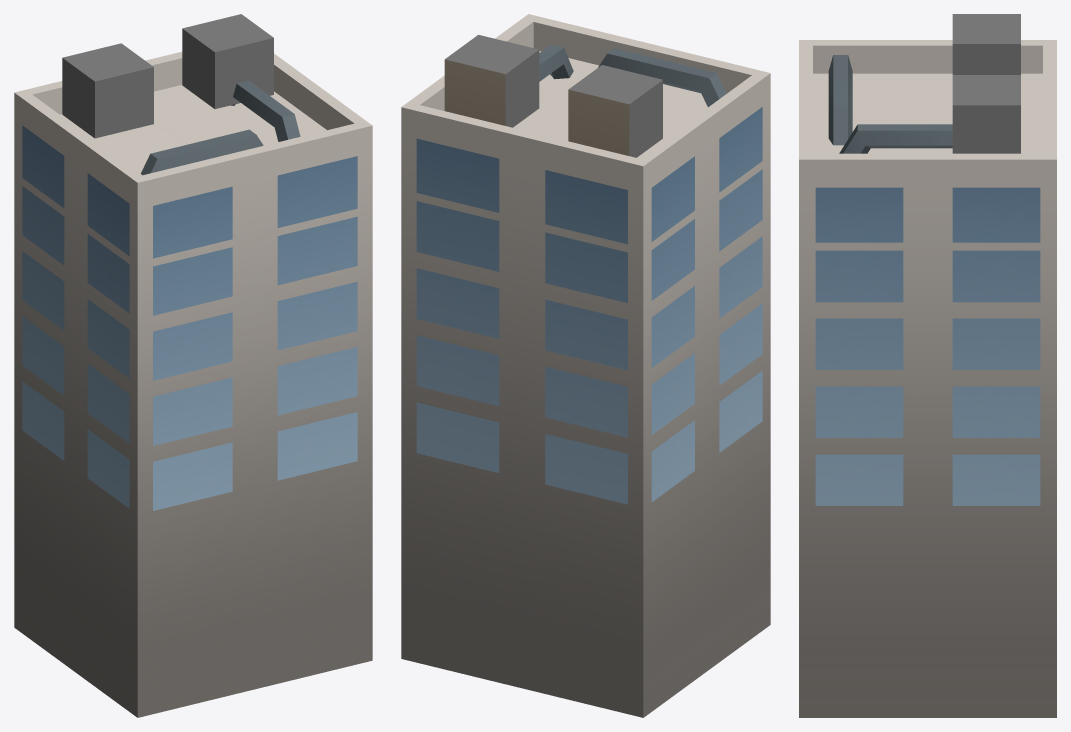
Rendered from Building_01.fbx.
3 views of the same model, side by side, from view 1: azimuth 30°, elevation 25°; view 2: azimuth 150°, elevation 25°; view 3: azimuth 270°, elevation 25° (orthographic). The views are drawn at different scales.
Visible parts, largest first — view 1: Box034; view 2: Box034; view 3: Box034.
Boxes of the visible parts, x1,y1,x2,y2 form: Box034: (14,14,372,717); Box034: (401,14,770,717); Box034: (799,14,1056,717).
Bounding box in the file's own units: 256 × 598 × 233.
